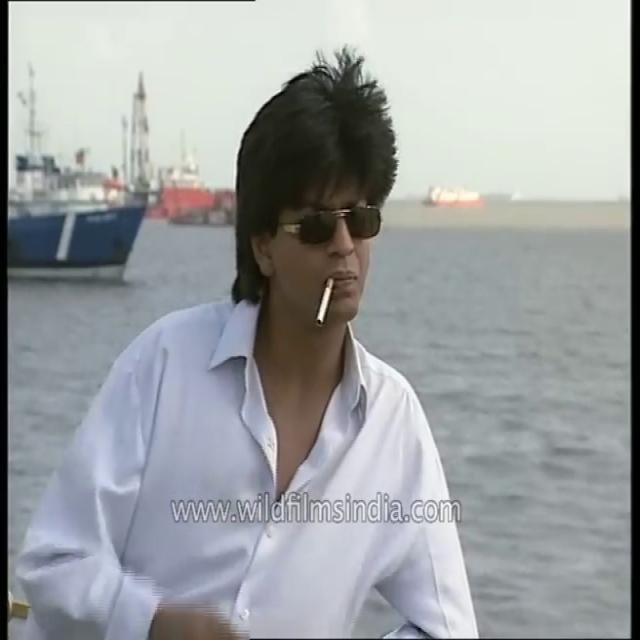Smooking: (307, 269, 343, 335)
